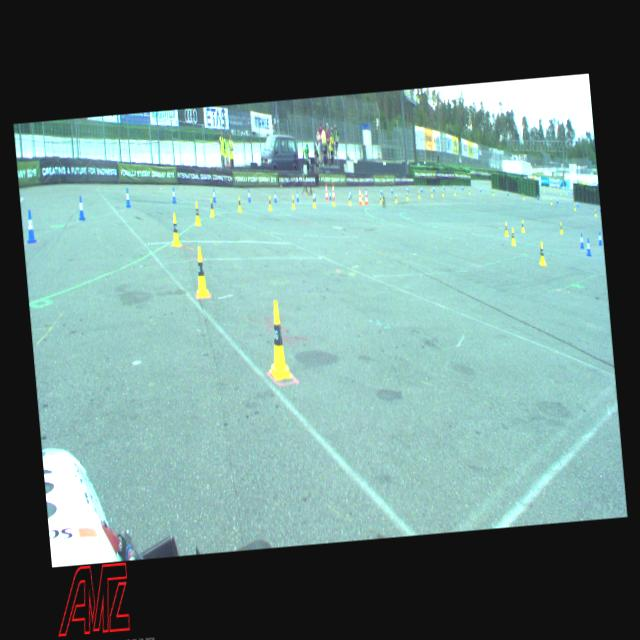blue_cone: (24, 209, 36, 243), (77, 195, 85, 220), (124, 187, 130, 207), (584, 238, 590, 255), (578, 233, 584, 248), (171, 186, 176, 202), (212, 188, 216, 202), (598, 232, 602, 244), (247, 188, 250, 202), (328, 190, 331, 200), (274, 190, 276, 202), (296, 190, 298, 200), (313, 190, 315, 200), (349, 189, 351, 198), (390, 186, 392, 194), (380, 186, 382, 194), (406, 185, 408, 192), (536, 193, 538, 200), (442, 183, 444, 190), (576, 200, 578, 206), (556, 198, 558, 202), (507, 188, 508, 194), (432, 185, 433, 191), (421, 186, 422, 192), (462, 183, 462, 190), (480, 186, 480, 192), (366, 187, 366, 196), (454, 184, 454, 188)
large_orange_cone: (324, 183, 328, 200), (358, 187, 362, 204), (364, 188, 368, 204), (332, 183, 335, 199)
yellow_cone: (264, 300, 292, 380), (192, 245, 209, 297), (170, 212, 180, 245), (192, 201, 200, 225), (538, 242, 546, 264), (208, 198, 214, 216), (510, 227, 516, 245), (236, 195, 242, 211), (503, 221, 508, 236), (268, 195, 272, 210), (520, 219, 524, 232), (290, 196, 294, 208), (312, 194, 315, 207), (559, 222, 562, 232), (361, 194, 364, 204), (379, 194, 382, 203), (332, 193, 334, 206), (348, 194, 350, 204), (394, 193, 396, 202), (594, 208, 596, 216), (406, 192, 408, 200), (418, 190, 420, 198), (573, 203, 575, 210), (550, 198, 552, 205), (442, 189, 444, 196), (522, 193, 524, 200), (430, 190, 432, 197), (468, 188, 470, 194), (492, 190, 493, 196), (543, 188, 544, 192), (550, 187, 551, 190), (454, 189, 454, 195), (560, 191, 560, 195), (566, 190, 566, 194)
